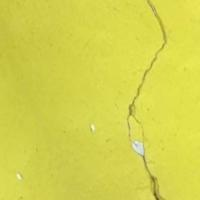crack: (124, 0, 171, 199)
